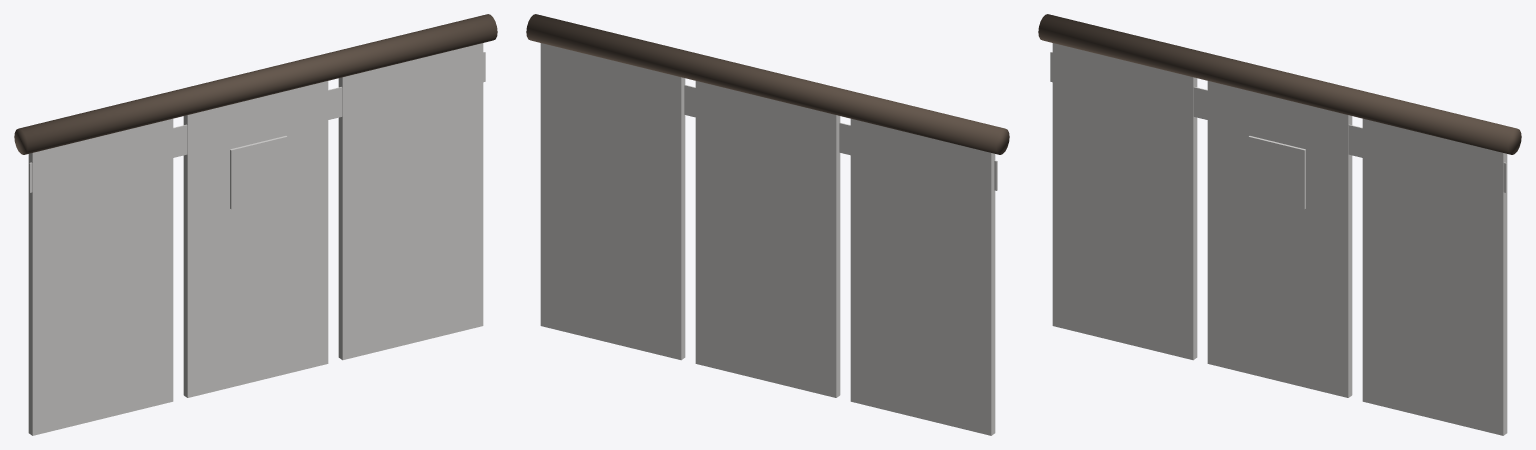
File: prop_noren_shiro.glb
3 renders of one model, left to right at view 1: azimuth 30°, elevation 25°; view 2: azimuth 150°, elevation 25°; view 3: azimuth 330°, elevation 25°, orthographic.
Parts seen in each view (by area): view 1: noren_shiro; view 2: noren_shiro; view 3: noren_shiro.
Part boxes in pixels (x1,y1,x2,y2): noren_shiro: (14,14,497,435); noren_shiro: (526,14,1009,435); noren_shiro: (1038,14,1521,435).
Bounding box in the file's own units: 2 × 1.25 × 0.1.
